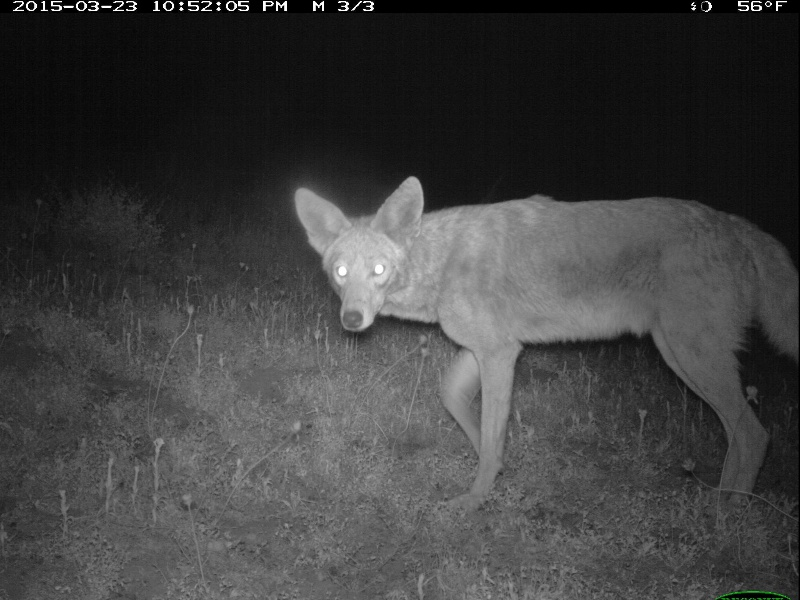coyote: (287, 173, 800, 499)
